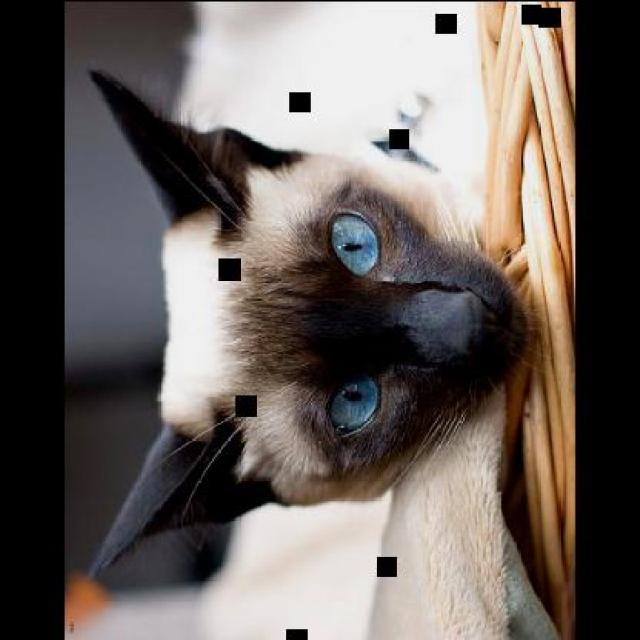unauthorized: (80, 63, 572, 639)
